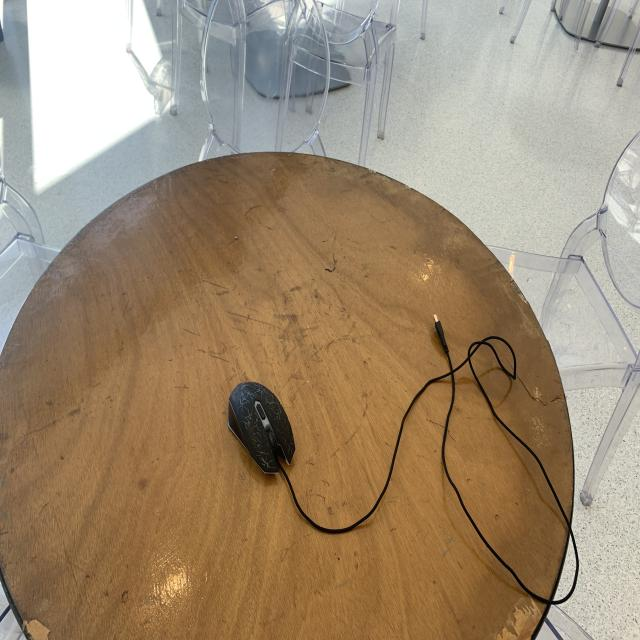Mouse: (222, 376, 310, 484)
